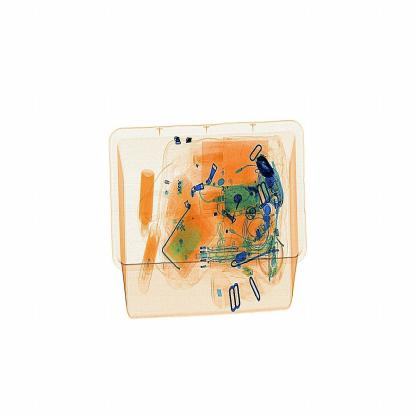scissors: (247, 142, 276, 184)
